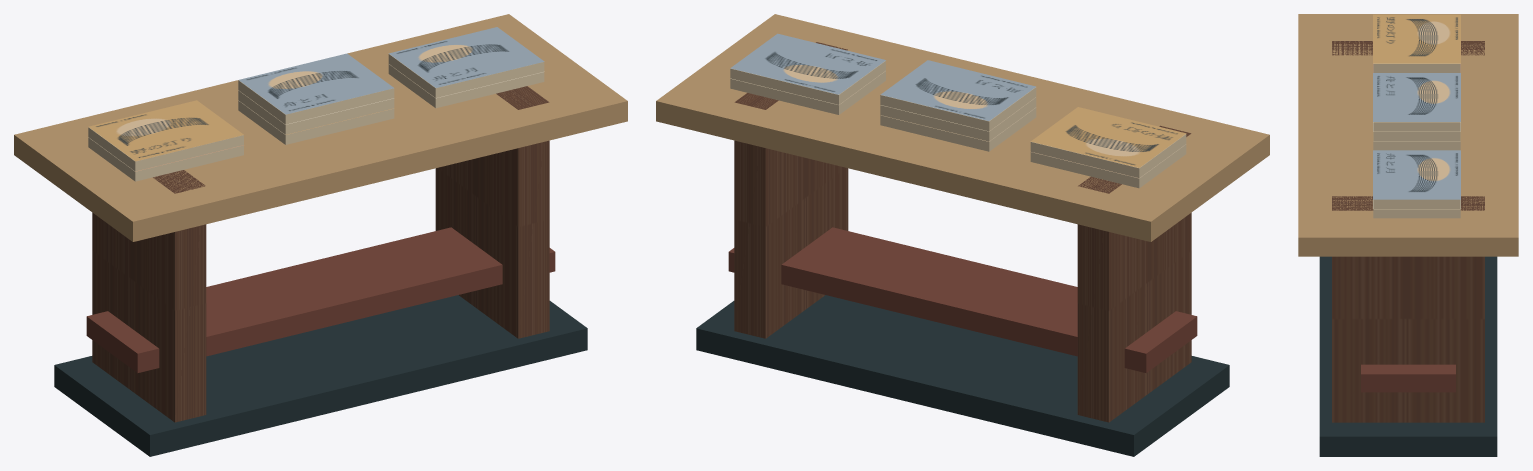
The model's file is orienne_press_island.glb.
3 views of the same model, side by side, from view 1: azimuth 30°, elevation 25°; view 2: azimuth 150°, elevation 25°; view 3: azimuth 270°, elevation 25° (orthographic). The views are drawn at different scales.
Bounding box in the file's own units: 1.73 × 0.939 × 0.72.
Materials: 1 (1 with a texture image).
